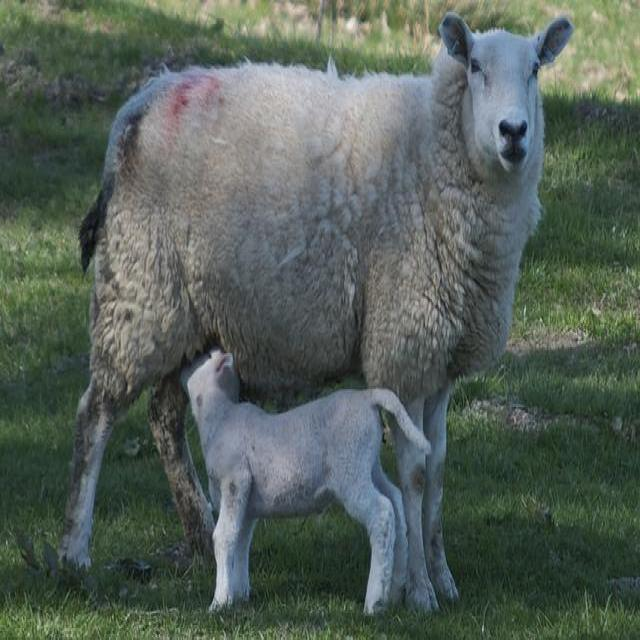Sheep: (65, 18, 574, 613), (180, 347, 432, 613)
